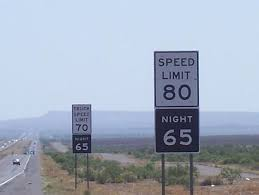speedLimit70: (72, 103, 92, 133)
